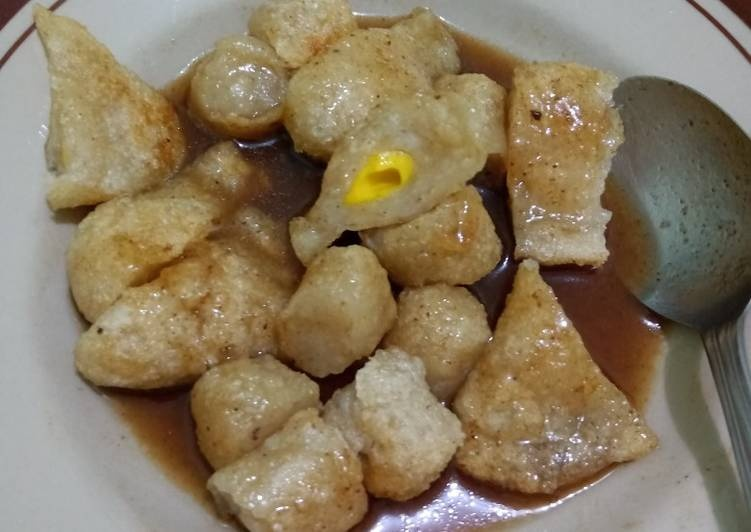pempek: (30, 7, 656, 526)
